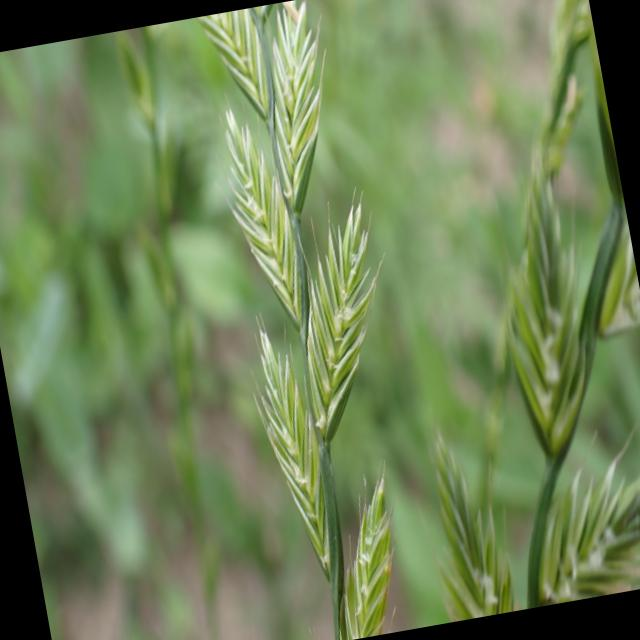Lolium: (184, 0, 449, 640)
